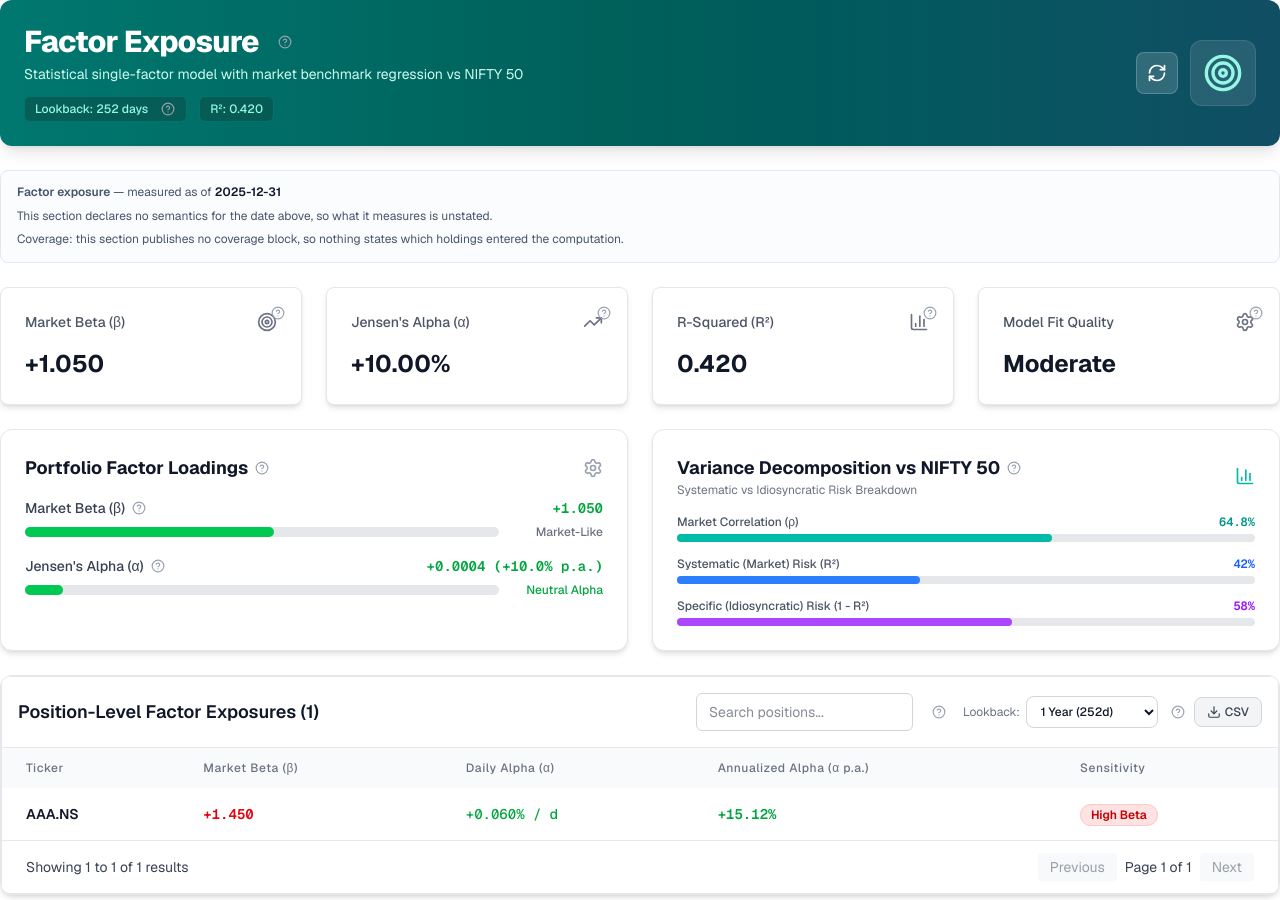
dashboard + portfolio controls carry accessible names › factor-exposure: the explainer close button has the sibling wording
Click the 1st button named "Help": point(285, 42) [277,34,293,50]
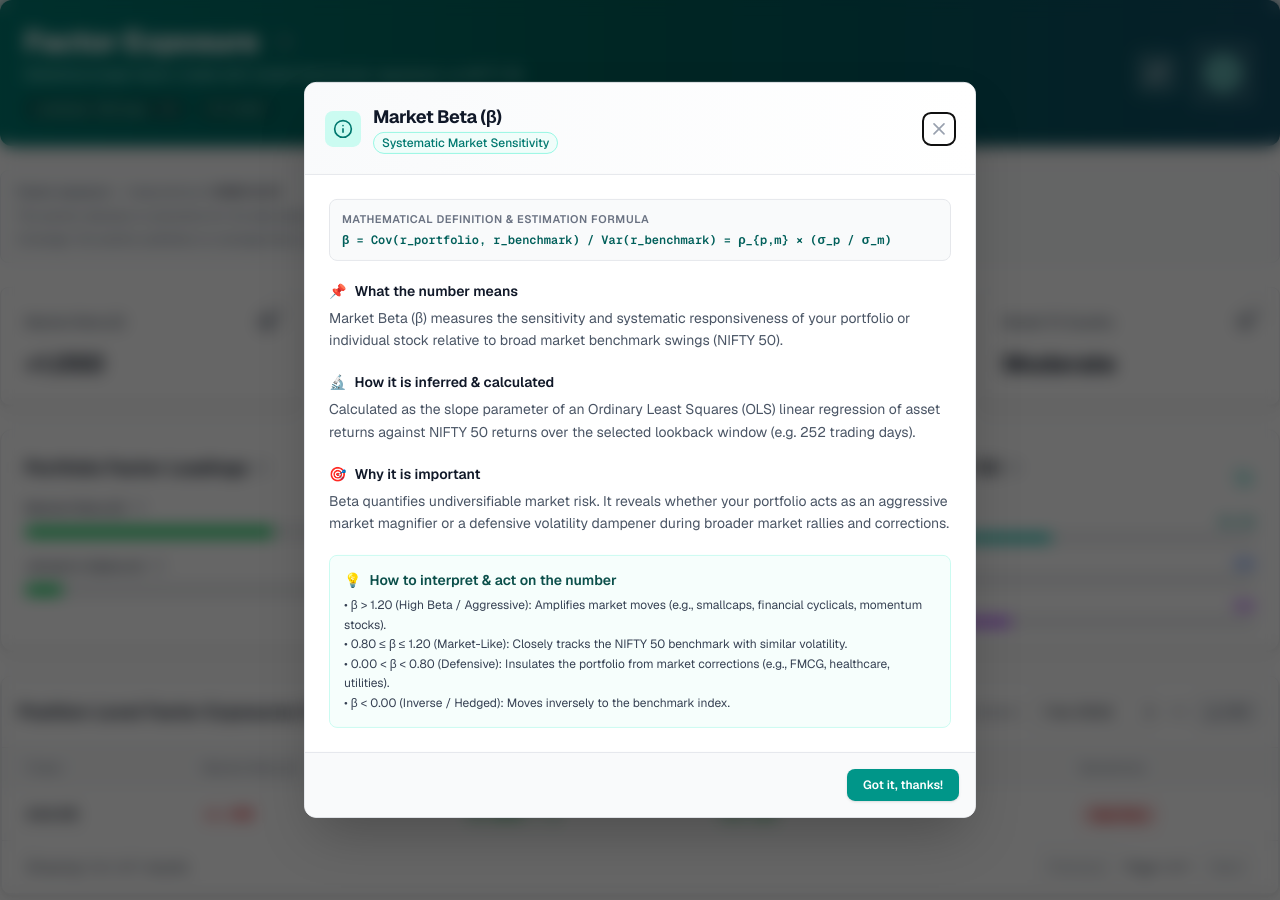
Expected: the button named "Close explainer" is shown, [923,112,955,144]
